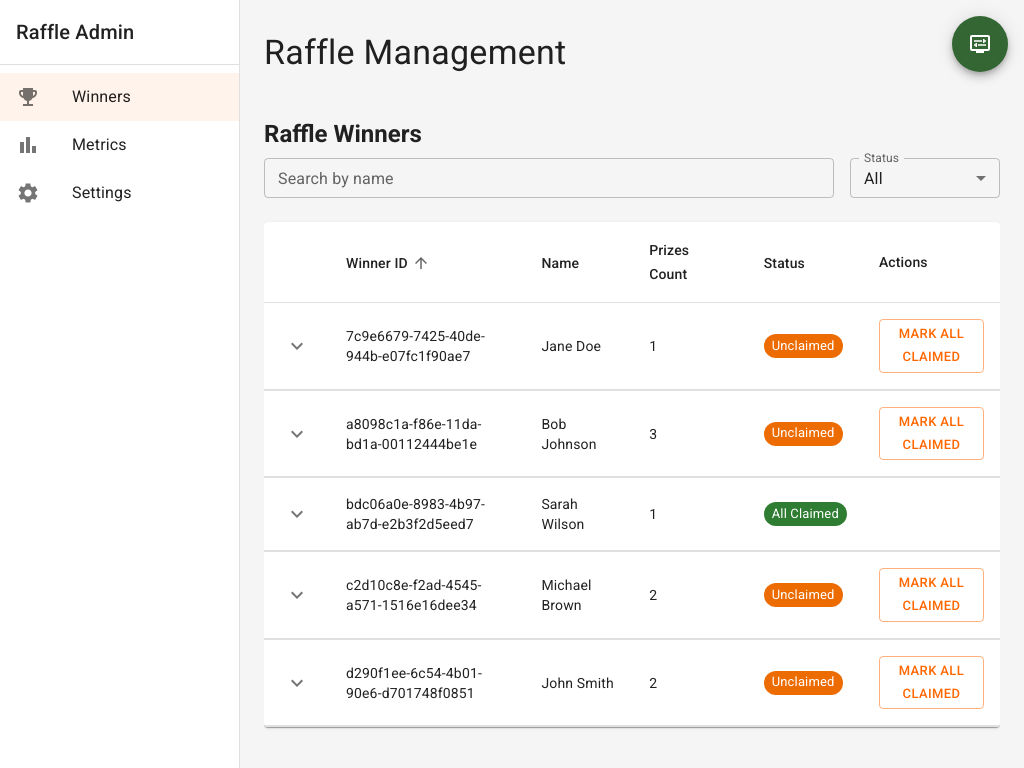
Test: Raffle Admin Page › should display the settings section
Click the text "Settings".
click(102, 193)  # box [72,183,132,202]
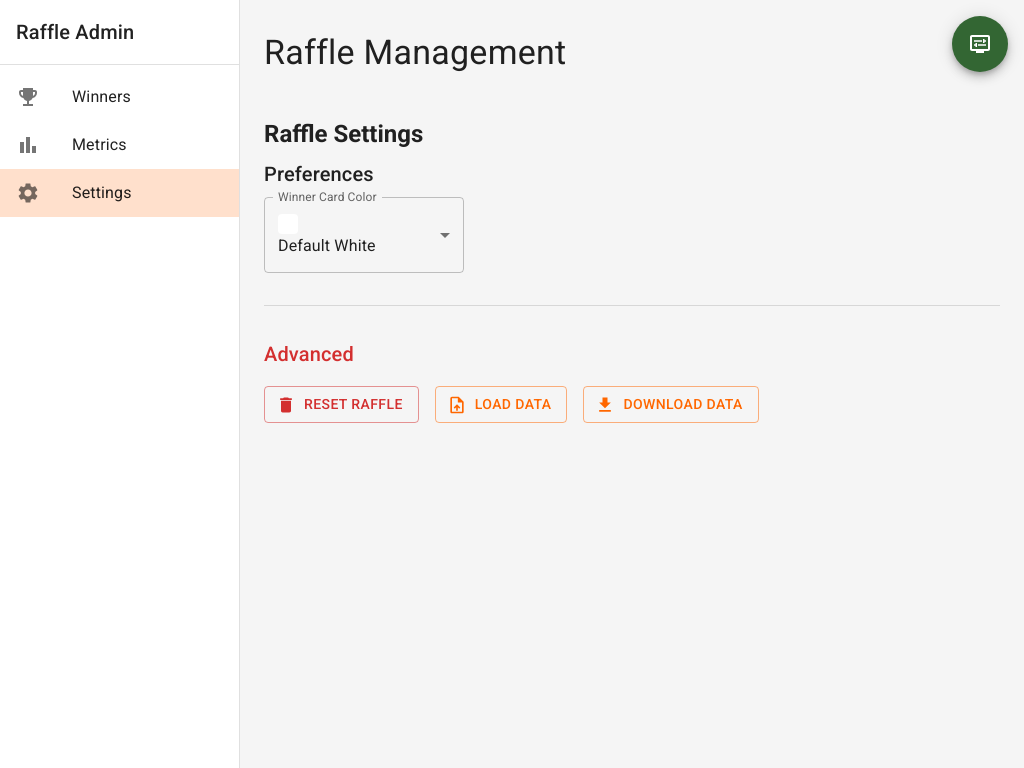
Expected: the heading "Raffle Settings" is shown, [264,120,423,148]
Expected: the heading "Preferences" is shown, [264,162,374,186]
Expected: the heading "Advanced" is shown, [264,342,354,366]
